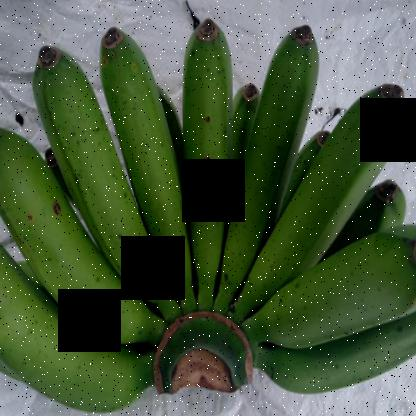unripe: (210, 16, 321, 286), (96, 1, 198, 277), (176, 1, 246, 309), (240, 241, 415, 355)
